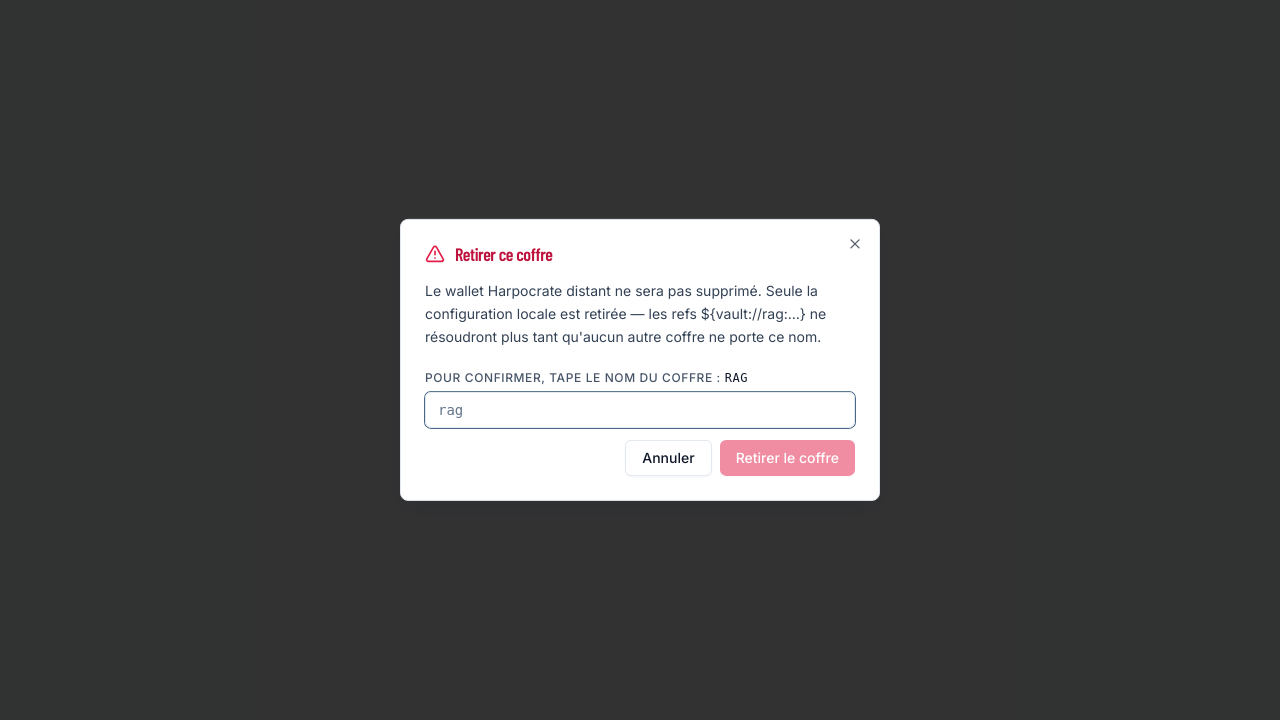
Test: RetireVaultDialog › keeps the submit button disabled until the typed name matches
Expected: the button "Retirer le coffre" is disabled, [720,440,855,476]
Step 1. Type "wrong" into the field with placeholder "rag" → (640, 410), box [425,392,855,428]
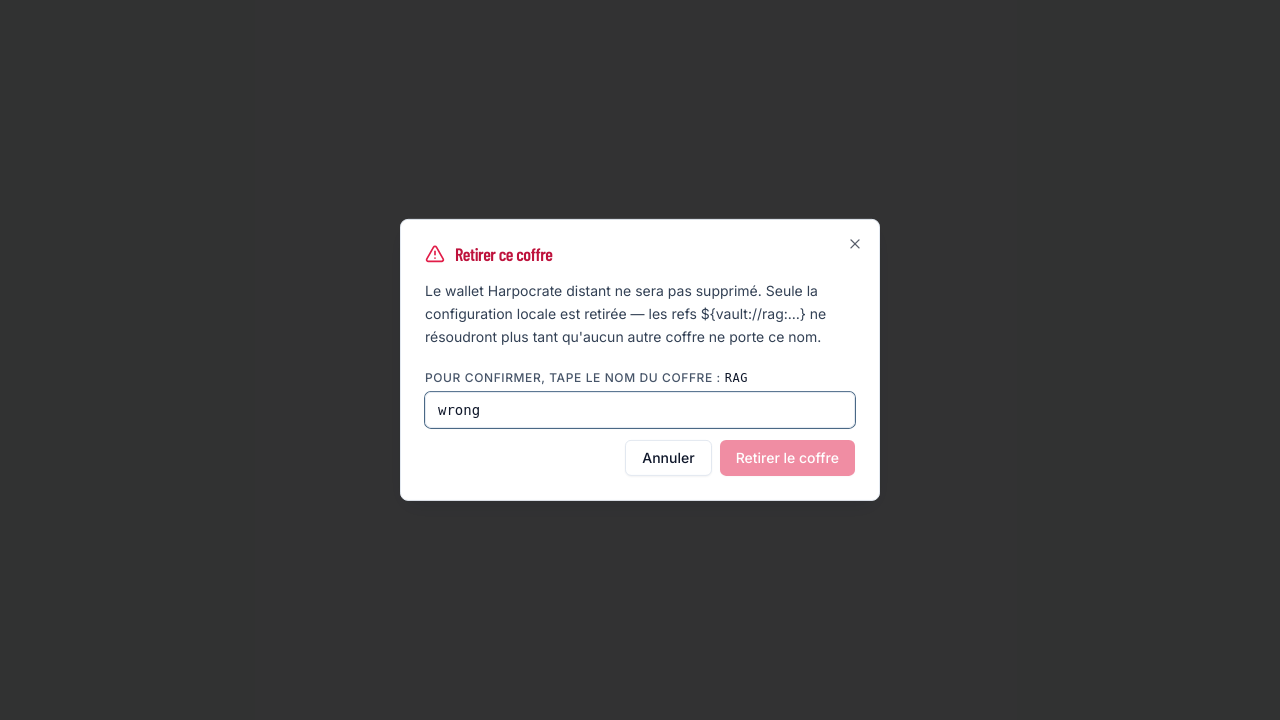
Expected: the button "Retirer le coffre" is disabled, [720,440,855,476]
Step 2. Replace the text in the field with placeholder "rag" with "rag" → (640, 410), box [425,392,855,428]
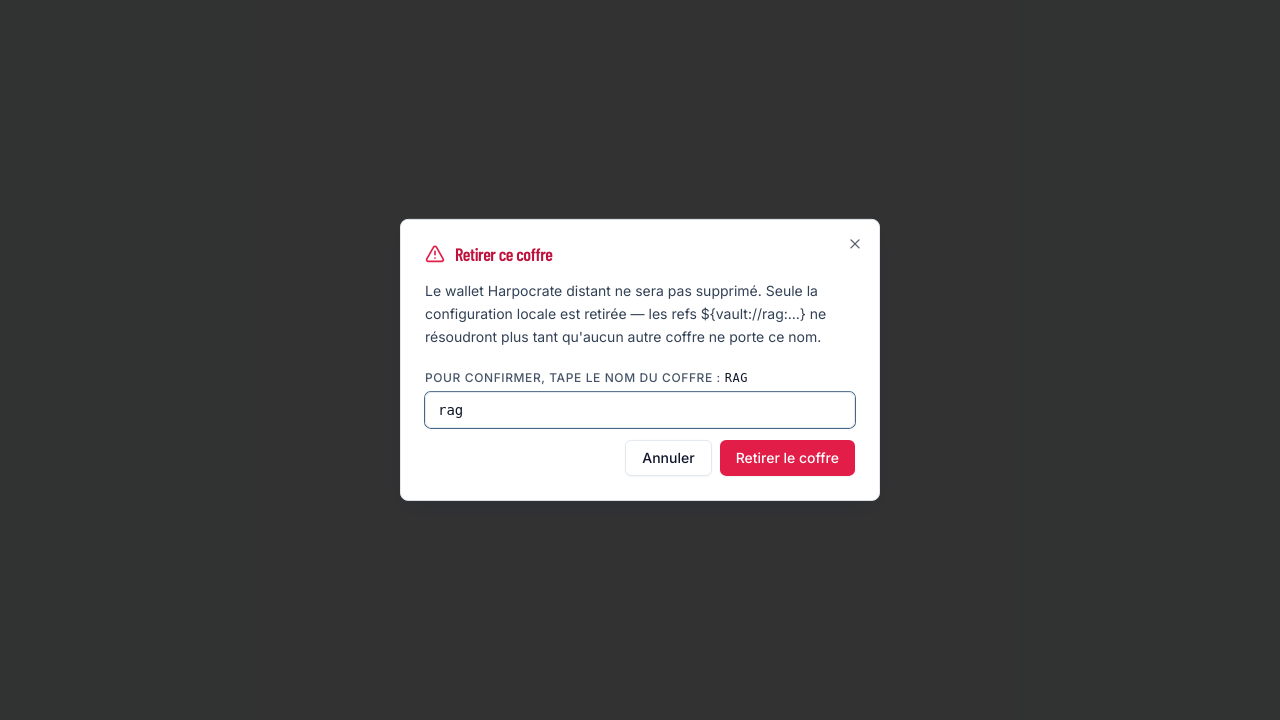
Expected: the button "Retirer le coffre" is enabled, [720,440,855,476]
